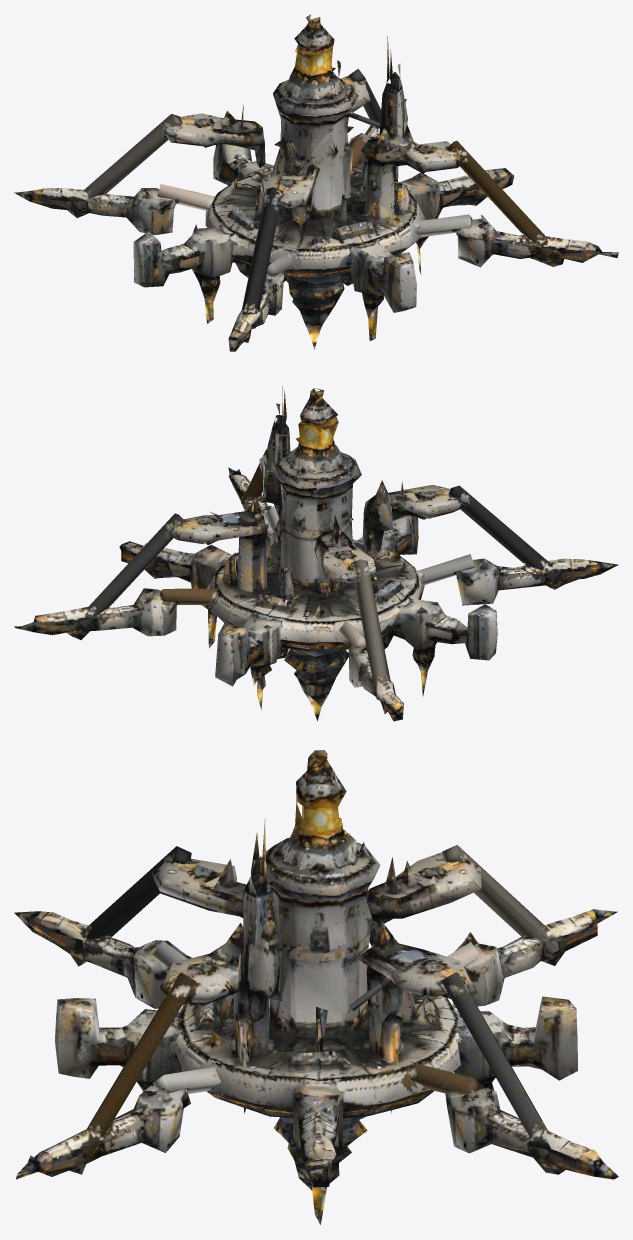
Rendered from st3d_foggiest_greywhistle_lod2.glb.
The picture shows the model from 3 angles, top to bottom: view 1: azimuth 30°, elevation 25°; view 2: azimuth 150°, elevation 25°; view 3: azimuth 270°, elevation 25°; orthographic projection. The views are drawn at different scales.
Visible parts, largest first — view 1: HOMELANCER_Station3D_Foggiest-GreywhistleBeacon_v1; view 2: HOMELANCER_Station3D_Foggiest-GreywhistleBeacon_v1; view 3: HOMELANCER_Station3D_Foggiest-GreywhistleBeacon_v1.
Part boxes in pixels (x1=…): HOMELANCER_Station3D_Foggiest-GreywhistleBeacon_v1: x1=14, y1=14, x2=618, y2=351; HOMELANCER_Station3D_Foggiest-GreywhistleBeacon_v1: x1=14, y1=386, x2=618, y2=721; HOMELANCER_Station3D_Foggiest-GreywhistleBeacon_v1: x1=14, y1=750, x2=618, y2=1224.
Bounding box in the file's own units: 0.9657 × 0.7832 × 0.9227.
1 material, 1 textured.
